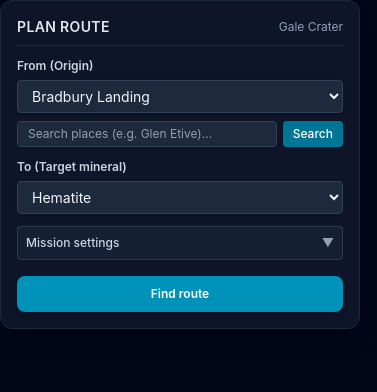
it: RoutePanel › shows error detail for 503 and refetches health (failure - 503)
This screenshot has width=377, height=392.
Click the button "Find route" at (180, 294), box [17,276,343,312]
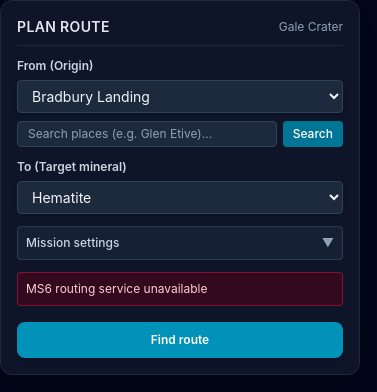
Now the message reads "MS6 routing service unavailable", box [26,281,208,296]
